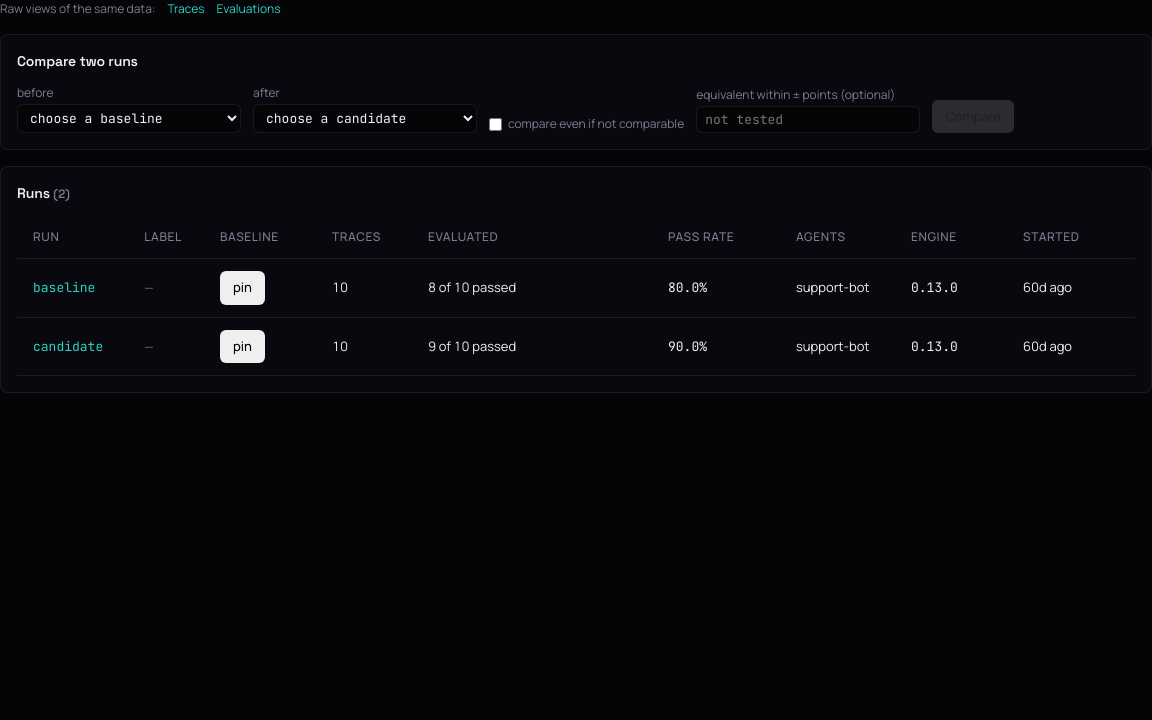
RunsPage › compare: the force box reaches the request
Select "baseline" in the dropdown labelled "before": (129, 118) [17,104,241,133]
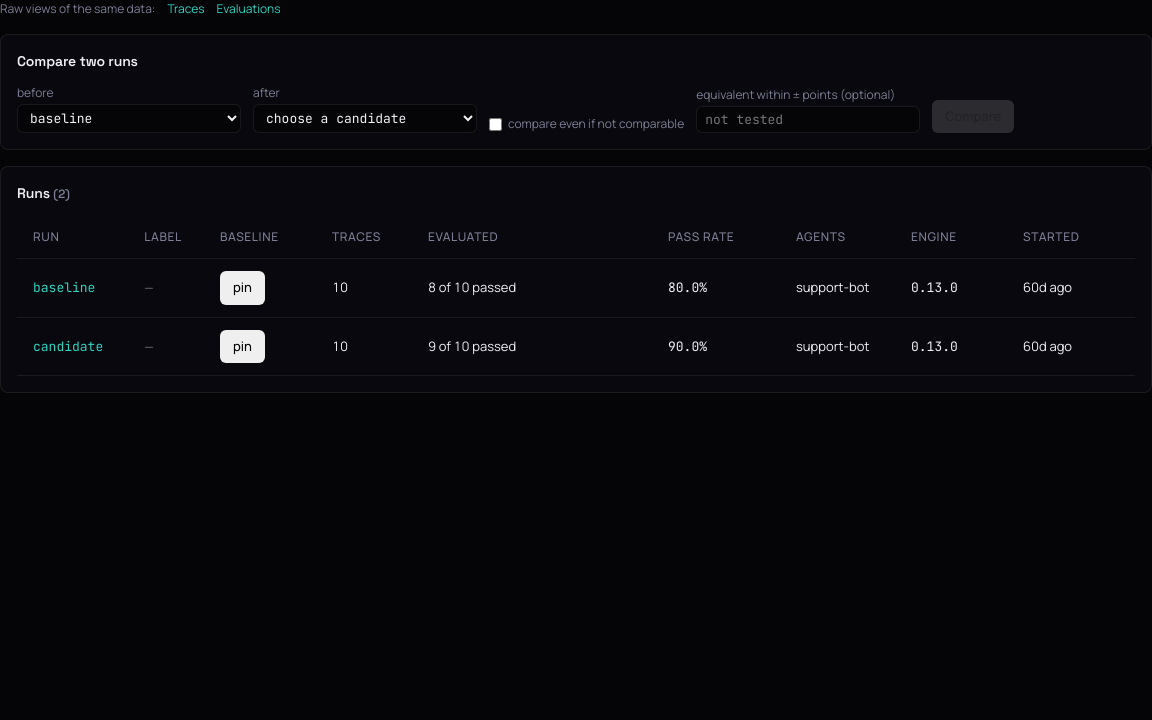
Select "candidate" in the dropdown labelled "after": (365, 118) [253,104,477,133]
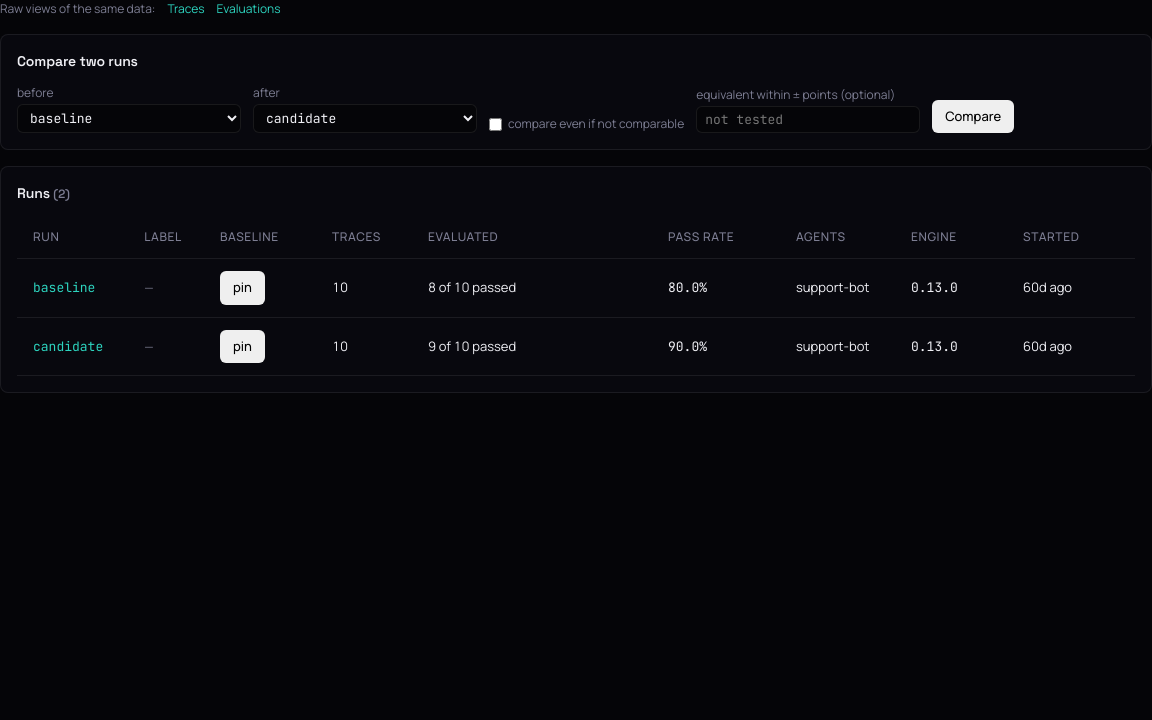
Click the checkbox labelled "compare even if not comparable": (496, 124) [489,118,502,130]
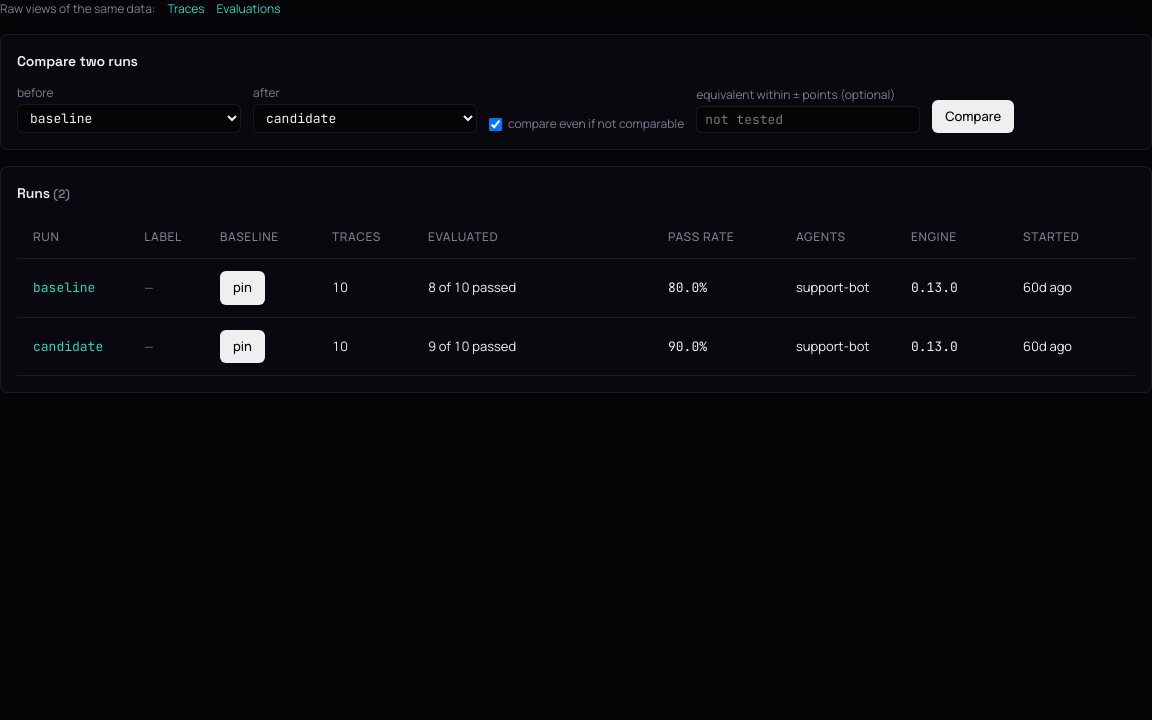
Click the button "Compare": (973, 116) [932,100,1014,133]
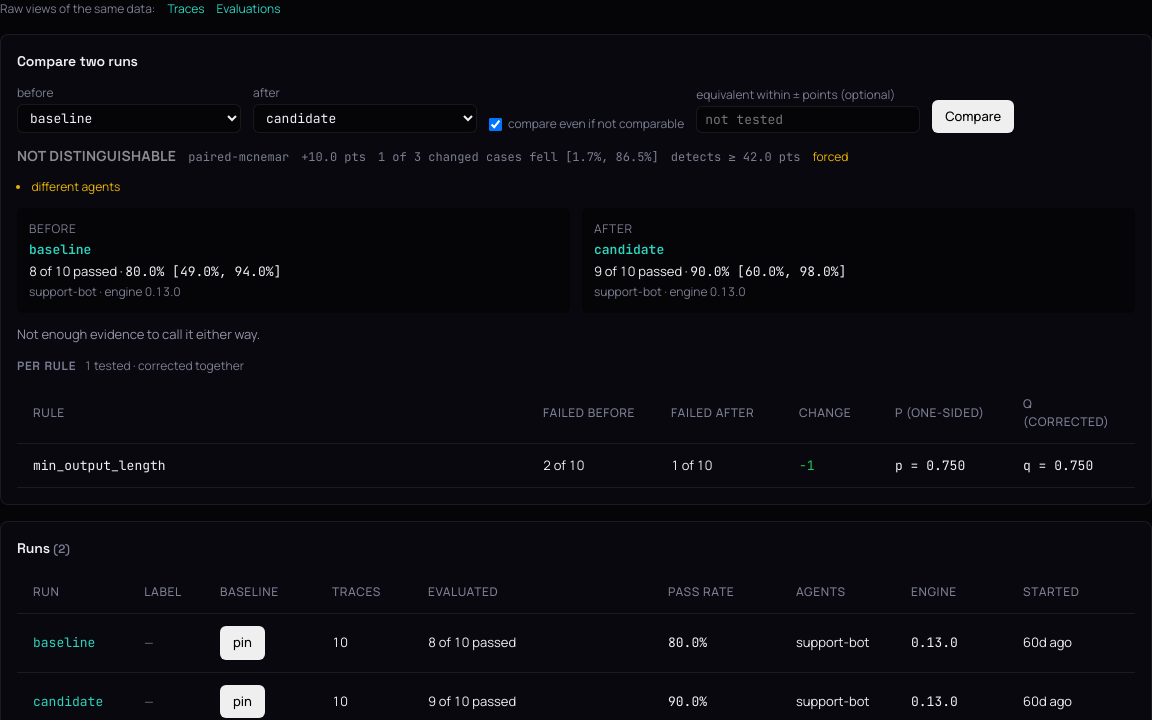
Expected: the text "forced" is shown, [812,148,848,166]
